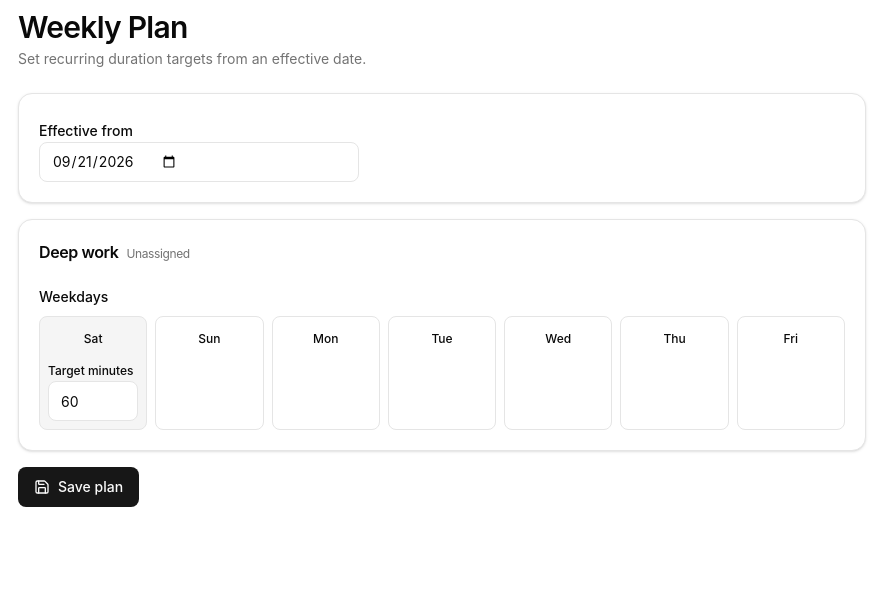
Test: localized validation feedback › validates weekly-plan durations beside the affected weekday
The width and height of the screenshot is (883, 594).
Step 1. Replace the text in the number field named "Sat Target minutes" with "0" → (93, 401), box top-left (48, 381), bottom-right (138, 421)
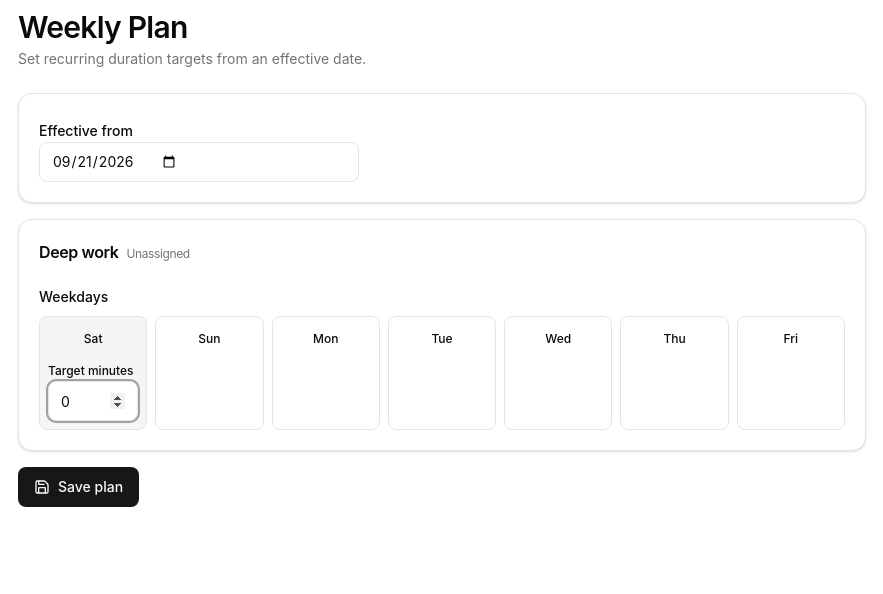
Step 2. Click the button "Save plan" → (79, 487), box top-left (18, 467), bottom-right (139, 507)
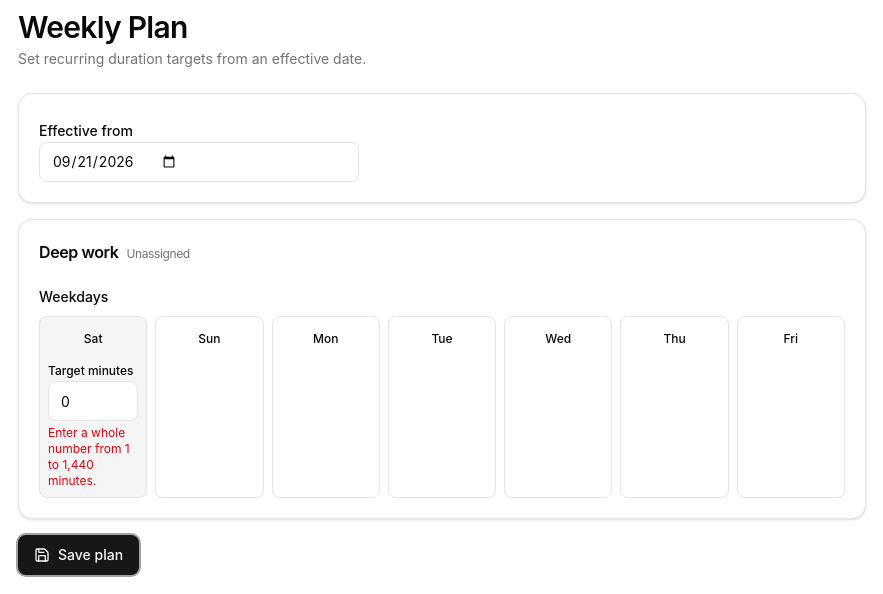
Expected: the text "Enter a whole number from 1 to 1,440 minutes." is shown, top-left (48, 425), bottom-right (138, 489)
